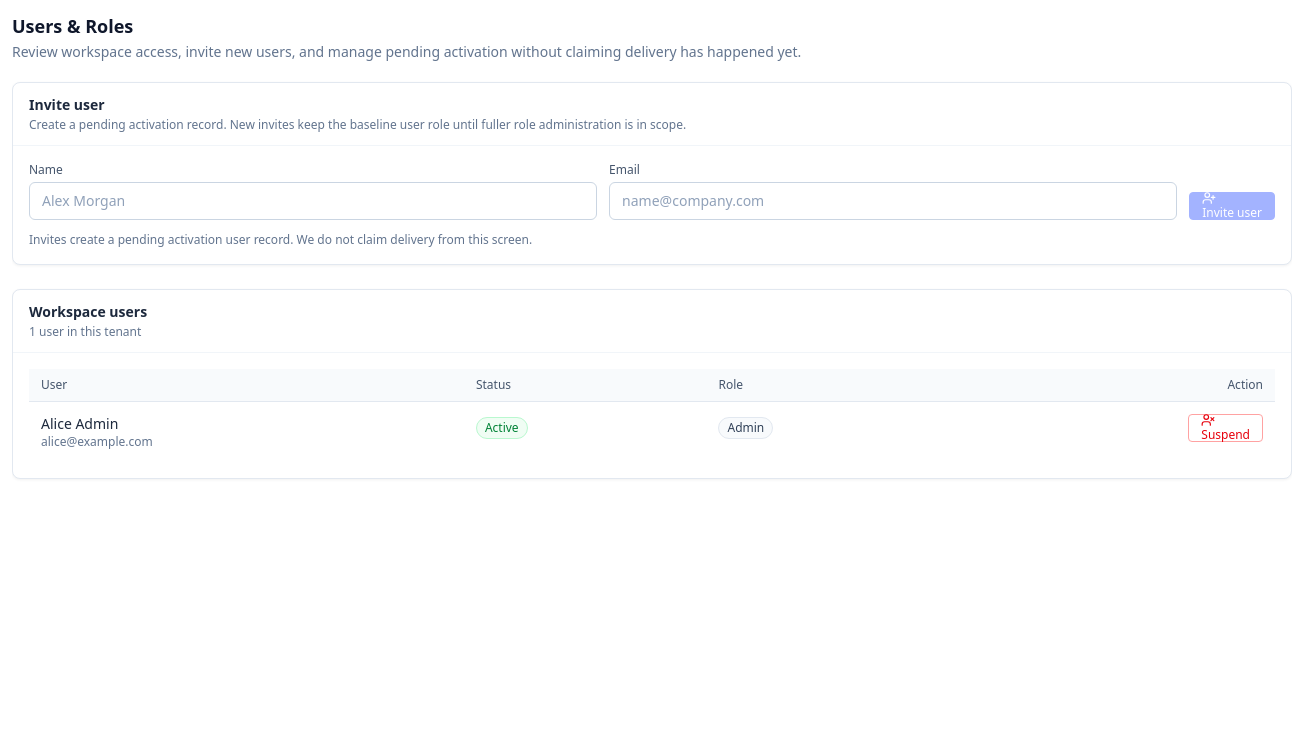
Test: SettingsUsersPage › surfaces suspend failures in the page-level alert
The image size is (1292, 732).
Expected: the text "Alice Admin" is shown, x1=41 y1=414 x2=118 y2=433
Click the button with aria-label "Suspend Alice Admin": (1226, 428) x1=1188 y1=414 x2=1263 y2=442
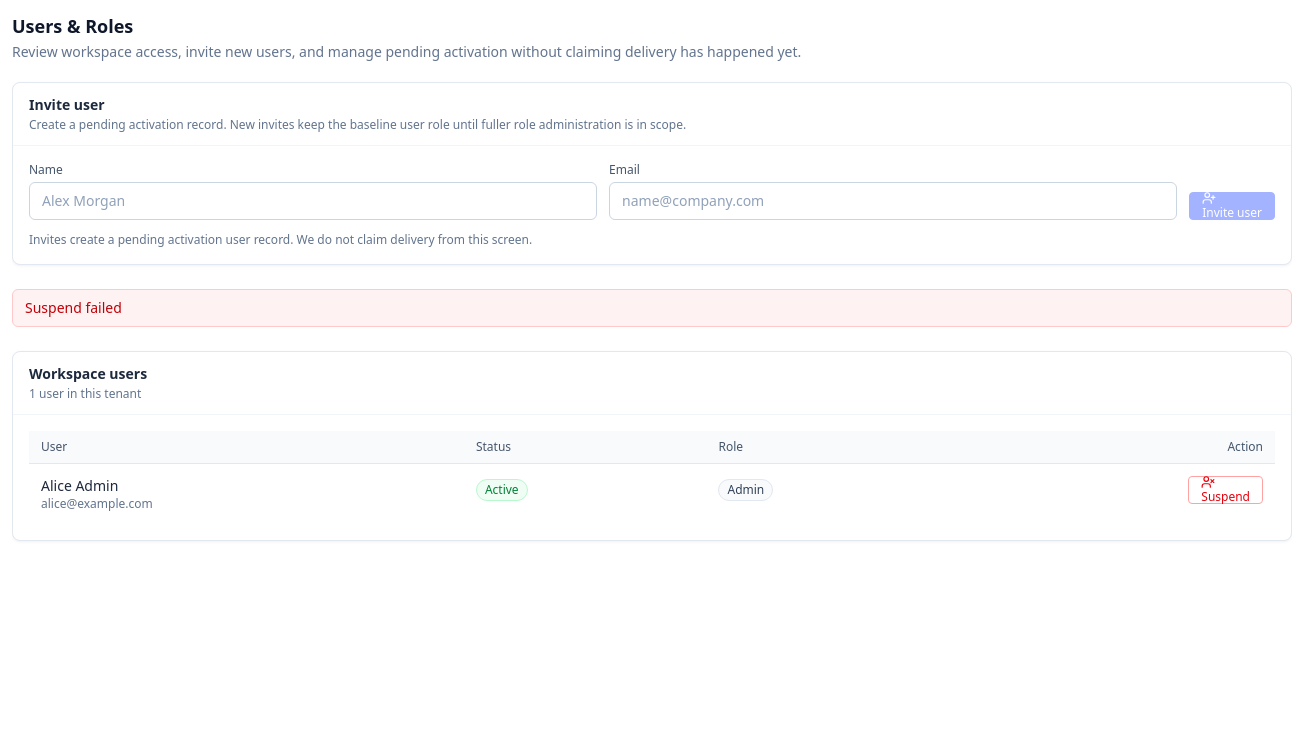
Expected: the message reads "Suspend failed", x1=25 y1=298 x2=122 y2=317
